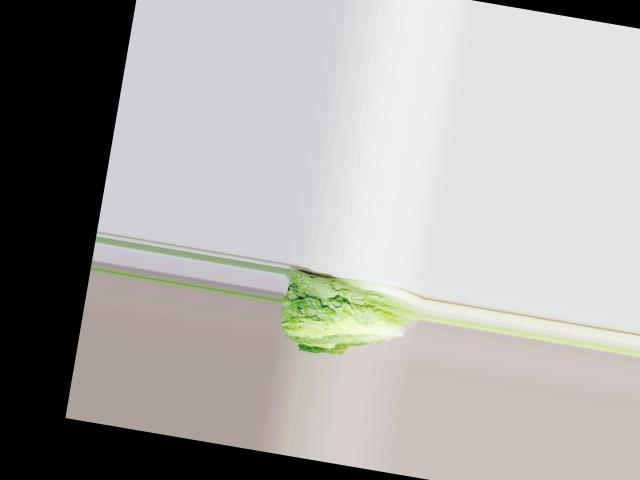lettuce: (275, 263, 419, 358)
